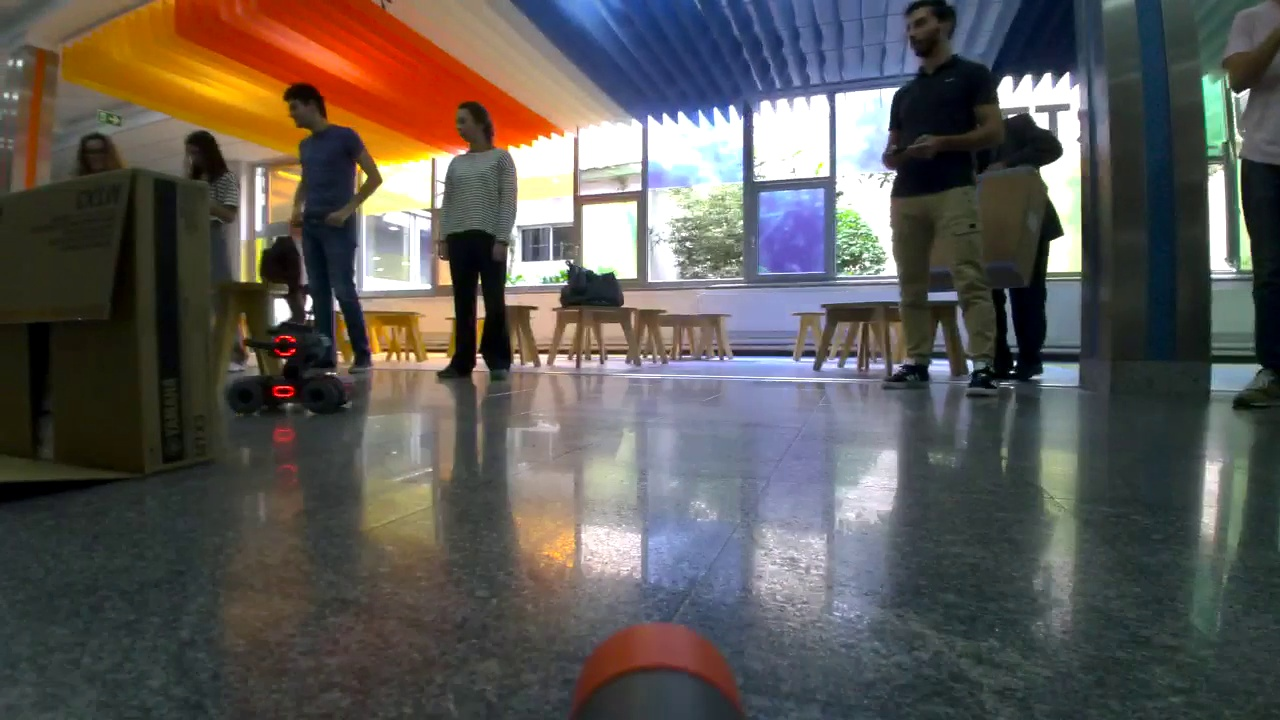robot: (232, 324, 341, 411)
